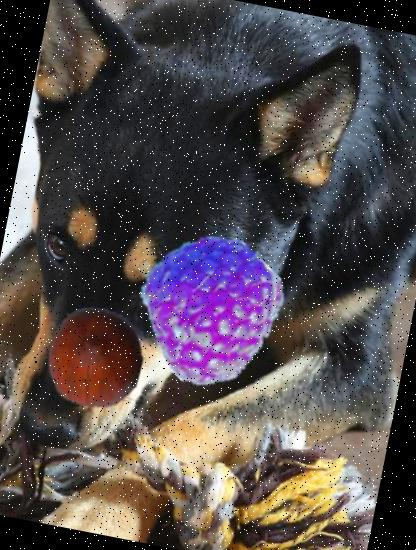Nut: (34, 297, 156, 419)
Raspberry: (125, 224, 294, 393)
